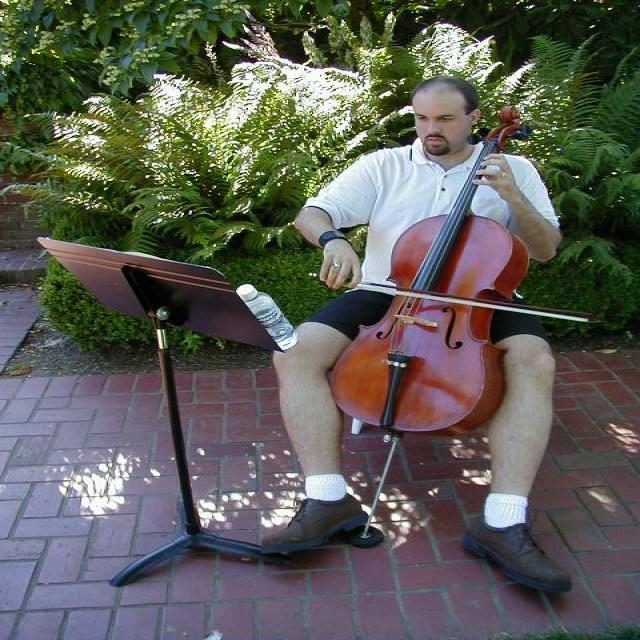cello: (324, 104, 534, 442)
